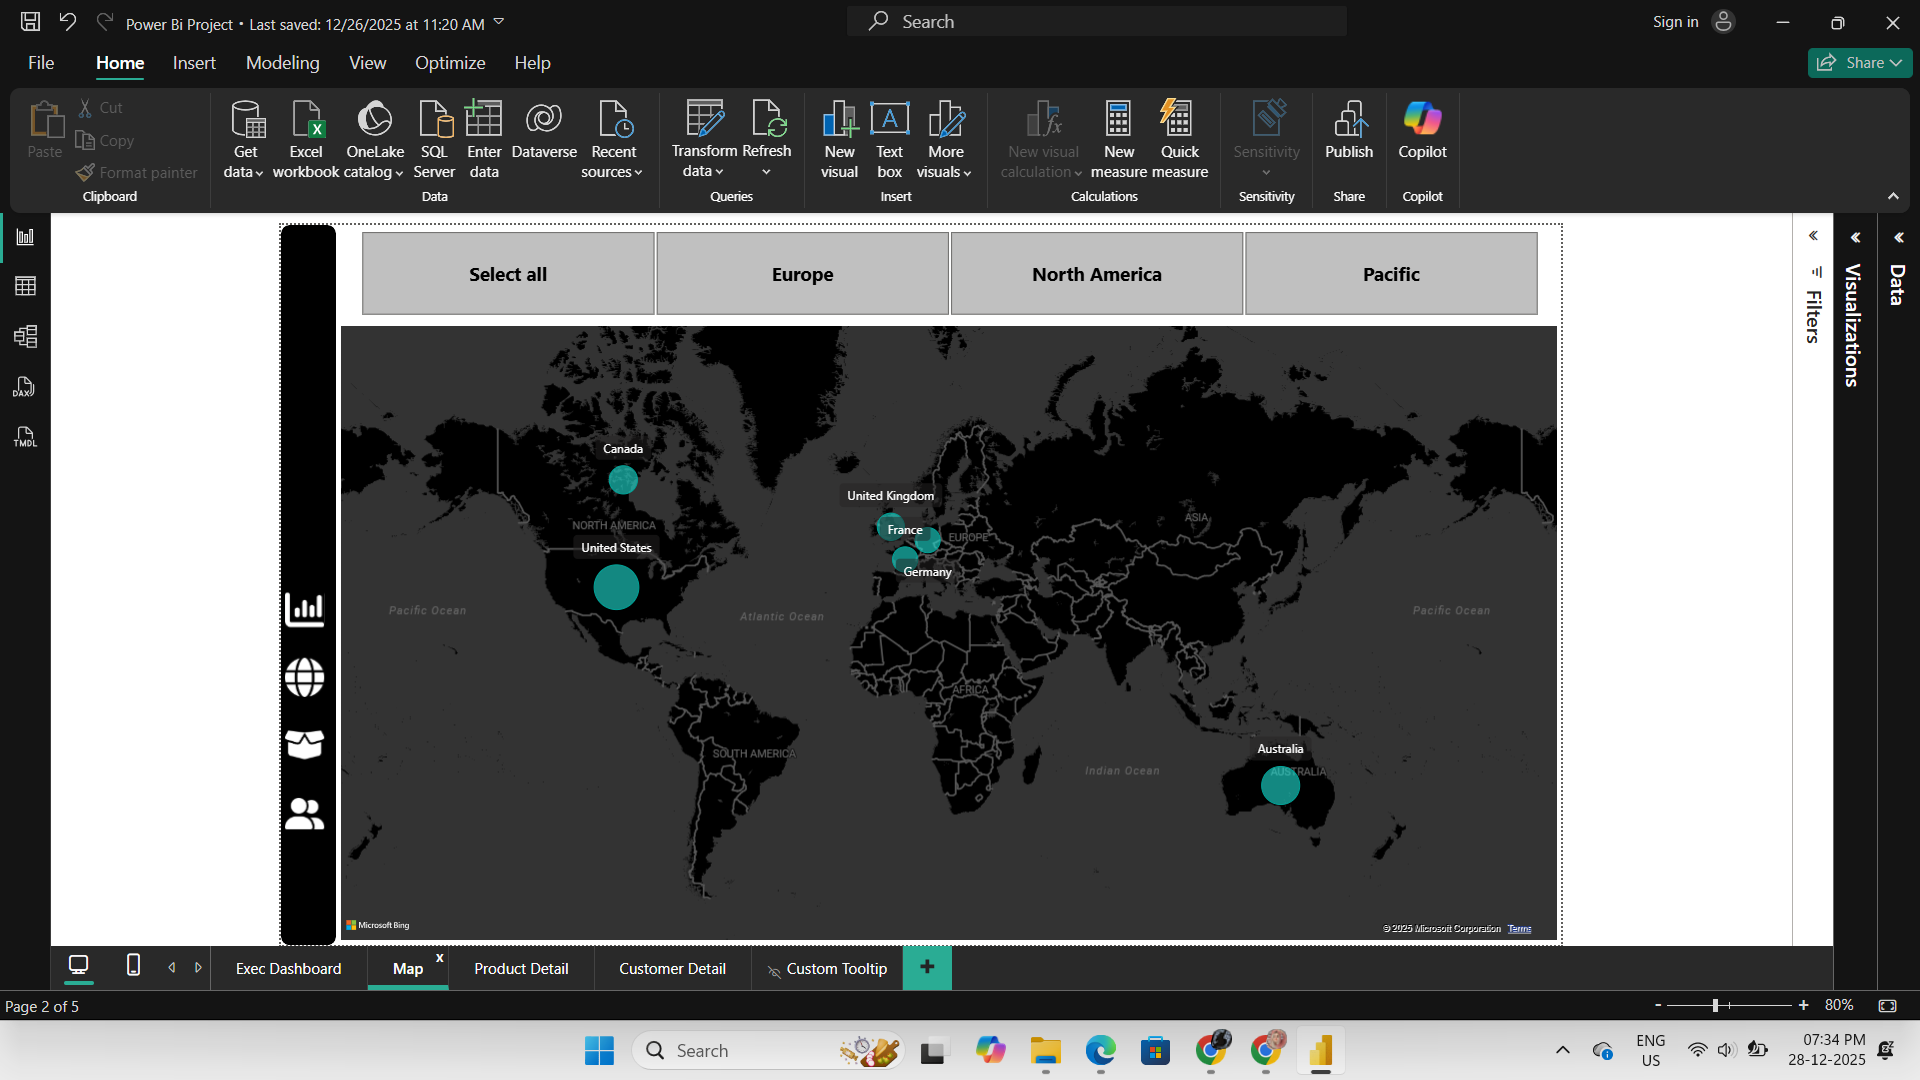

This screenshot's page, from the dashboard's own definition file:
{"tool":"powerbi","page":{"name":"Map","canvas":[1280,720],"ordinal":1},"visuals":[{"type":"shape","box":[0,0,55,720.3],"z":0},{"type":"map","fields":{"Category":["Territory Lookup.Country"],"Size":["Measure Table.Total Orders"]},"box":[54.7,96.5,1225.6,623.3],"z":1000},{"type":"slicer","fields":{"Values":["Territory Lookup.Continent"]},"box":[54.7,0,1225.6,96.5],"z":2000},{"type":"actionButton","box":[0,360.7,54.7,47.3],"z":3000},{"type":"actionButton","box":[0,428.8,54.7,47.3],"z":4000},{"type":"actionButton","box":[0,496.8,54.7,47.3],"z":5000},{"type":"actionButton","box":[0,564.8,54.7,47.3],"z":6000}]}

Visuals, with their boxes on the page's 1280x720 design canvas (x1, y1, x2, y2). These are canvas units, not pixel positions in the 1920x1080 screenshot, which may show the page scaled, cropped or inside an application window:
shape: <bbox>0, 0, 55, 720</bbox>
map - Territory Lookup.Country x Measure Table.Total Orders: <bbox>55, 96, 1280, 720</bbox>
slicer - Territory Lookup.Continent: <bbox>55, 0, 1280, 96</bbox>
actionButton: <bbox>0, 361, 55, 408</bbox>
actionButton: <bbox>0, 429, 55, 476</bbox>
actionButton: <bbox>0, 497, 55, 544</bbox>
actionButton: <bbox>0, 565, 55, 612</bbox>
